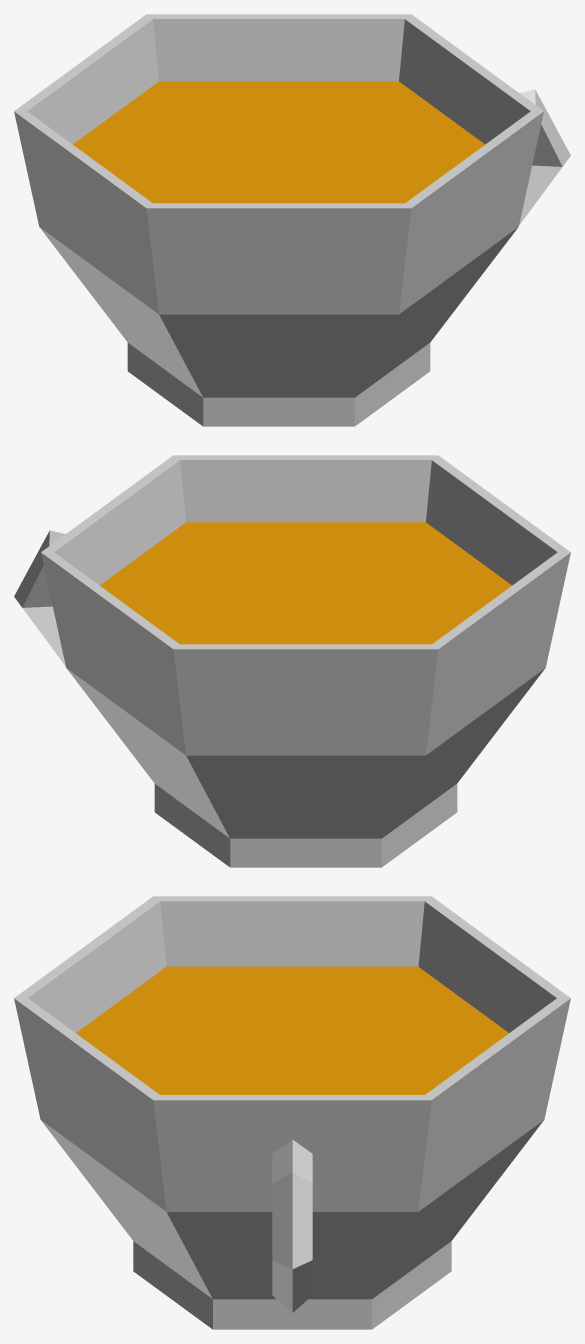
Rendered from Cup2Tea.fbx.
The picture shows the model from 3 angles, top to bottom: view 1: azimuth 30°, elevation 25°; view 2: azimuth 150°, elevation 25°; view 3: azimuth 270°, elevation 25°; orthographic projection. The views are drawn at different scales.
Visible parts, largest first — view 1: Cylinder; view 2: Cylinder; view 3: Cylinder.
Boxes of the visible parts, x1,y1,x2,y2 form: Cylinder: (14, 14, 570, 426); Cylinder: (14, 455, 570, 867); Cylinder: (14, 896, 570, 1329).
Bounding box in the file's own units: 0.2667 × 0.135 × 0.2495.
